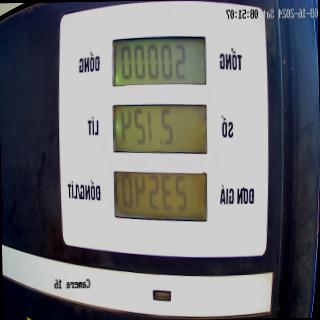screen: (108, 32, 211, 225)
